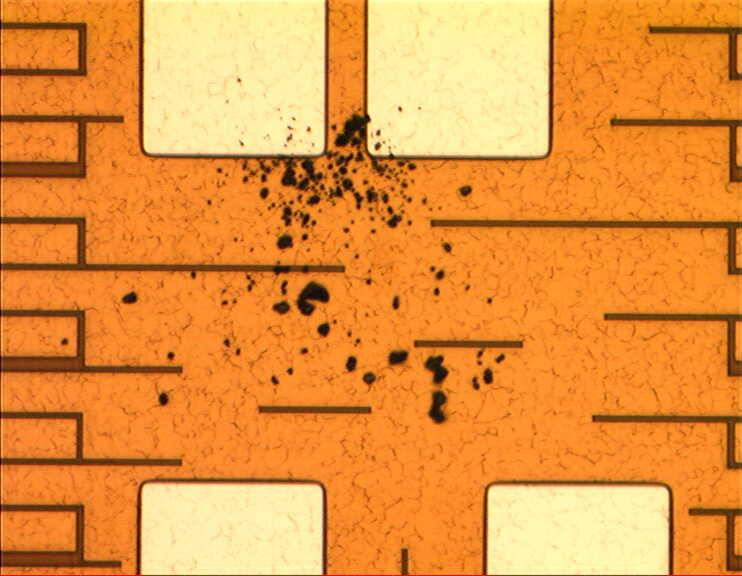PO CONTAMINATION: (56, 73, 510, 431)
